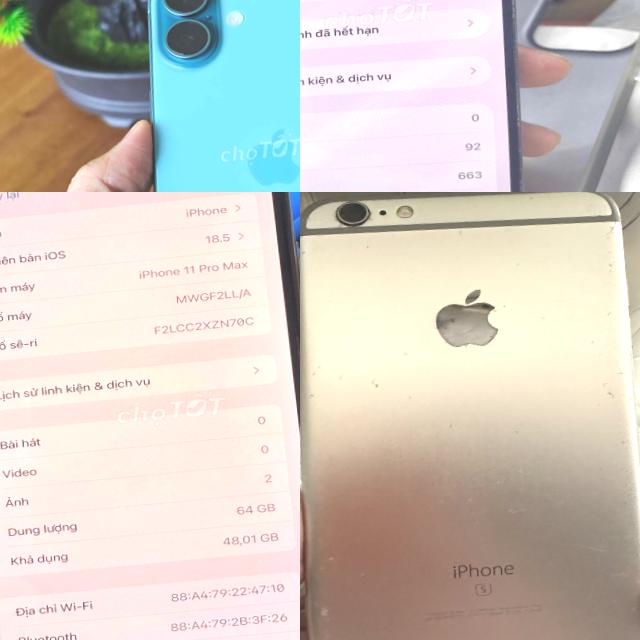gen_11: (0, 192, 300, 640)
gen_14: (300, 0, 551, 192)
gen_16: (105, 0, 300, 192)
gen_6: (300, 192, 640, 640)
scratch: (430, 275, 509, 364), (424, 412, 500, 492), (594, 358, 640, 452), (315, 192, 397, 239), (589, 289, 640, 354), (588, 212, 631, 286), (351, 362, 408, 409), (300, 252, 329, 337), (302, 542, 354, 588), (608, 446, 640, 516), (601, 585, 640, 640), (306, 588, 346, 640), (300, 353, 334, 414), (612, 514, 640, 585), (396, 336, 432, 370), (523, 192, 578, 210), (472, 578, 496, 598), (517, 161, 528, 192)
